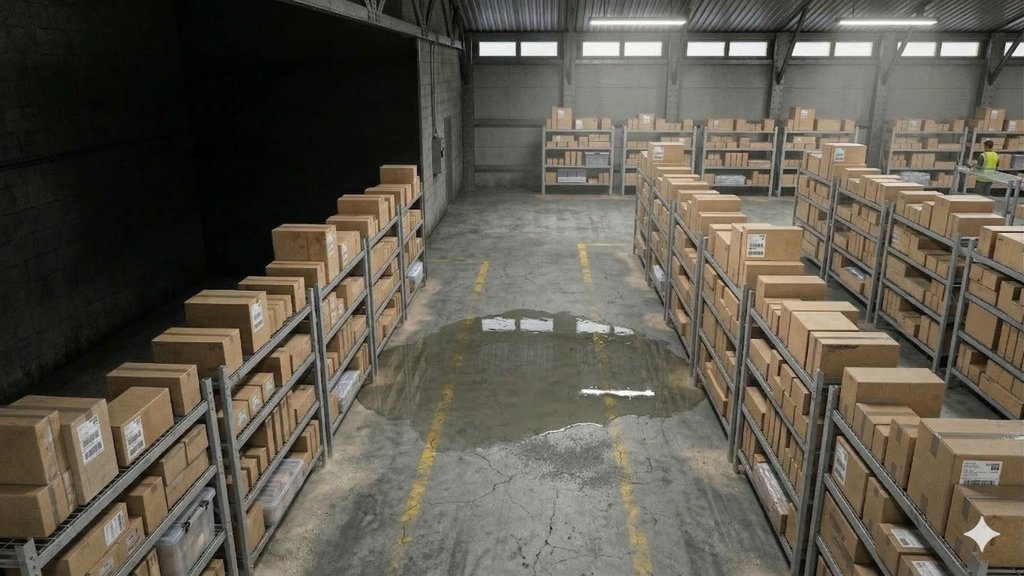person: (974, 135, 1010, 179)
safety_vest: (979, 149, 1003, 176)
spill: (373, 284, 700, 450)
